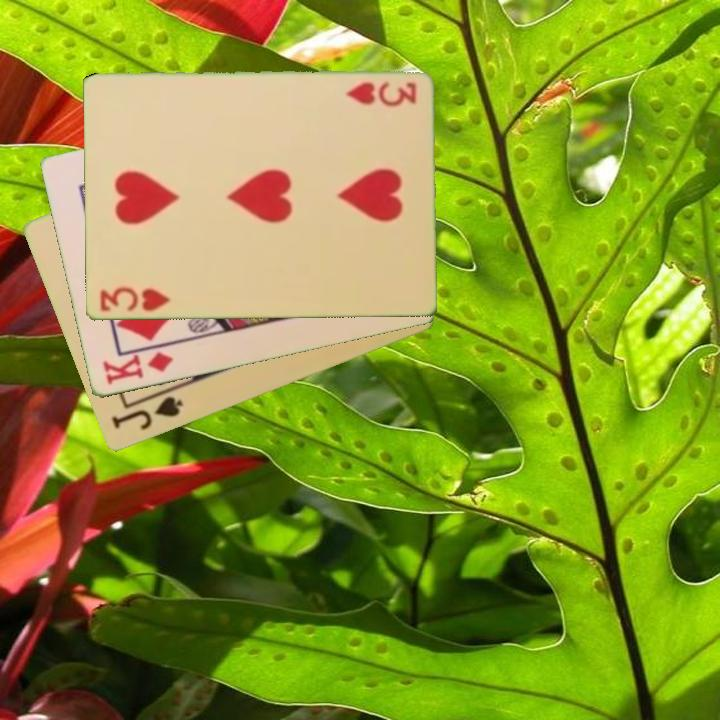3h: (96, 284, 172, 315), (342, 79, 419, 108)
Js: (107, 393, 186, 434)
Kd: (99, 348, 177, 388)
